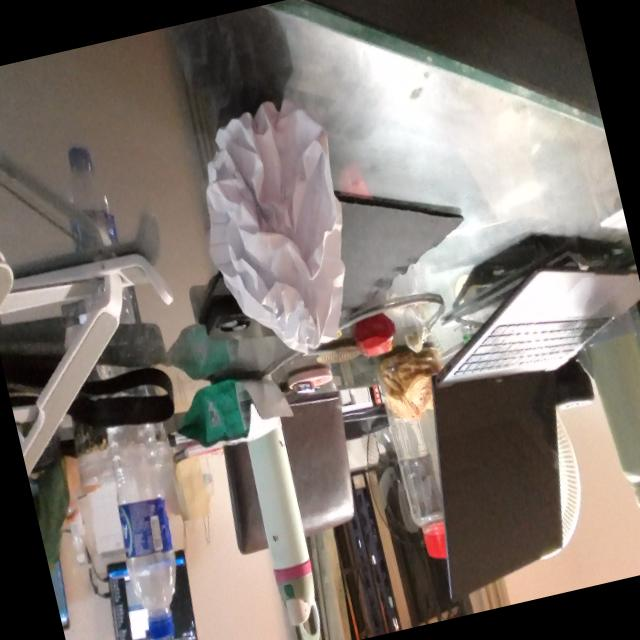crumpled_paper: (178, 81, 378, 372)
